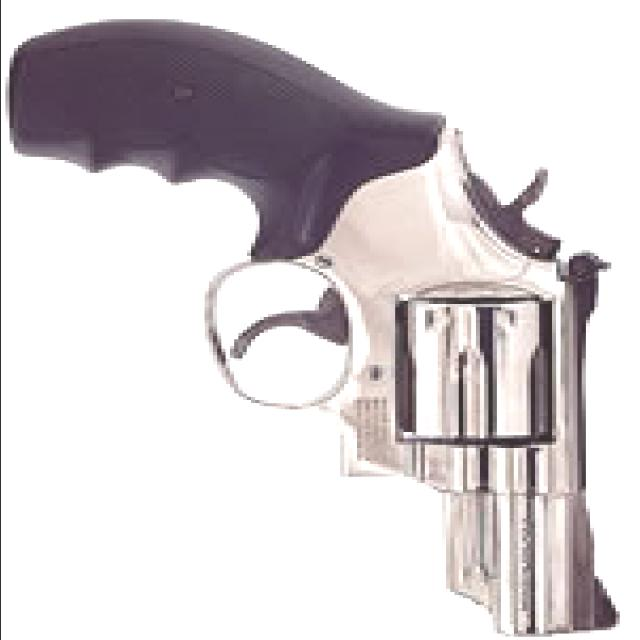handgun: (17, 16, 623, 637)
